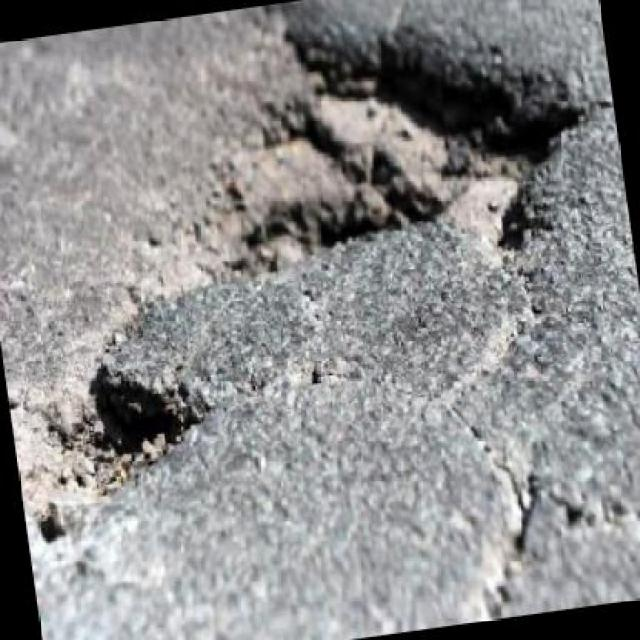pothole1: (141, 0, 609, 312), (3, 335, 223, 542)
